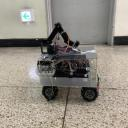cart: (35, 46, 99, 102)
